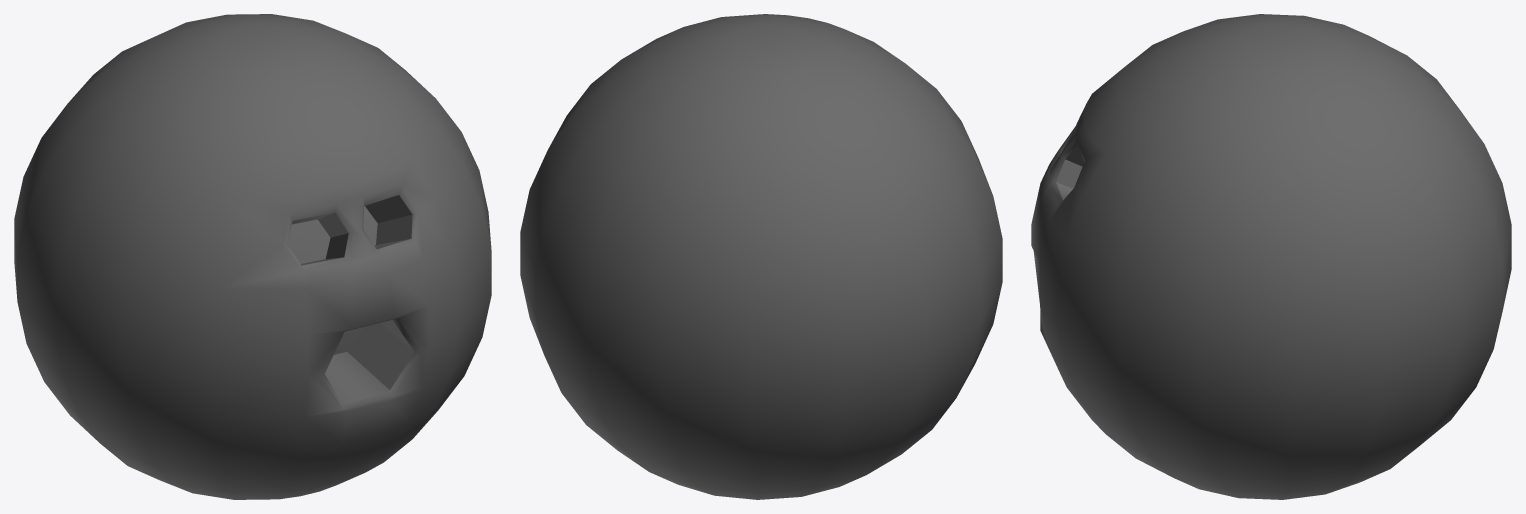
The model's file is BowlingBall.fbx.
3 renders of one model, left to right at view 1: azimuth 30°, elevation 25°; view 2: azimuth 150°, elevation 25°; view 3: azimuth 270°, elevation 25°, orthographic.
Visible parts, largest first — view 1: BowlingBall; view 2: BowlingBall; view 3: BowlingBall.
Part boxes in pixels (<box>): BowlingBall: <box>14,14,491,499</box>; BowlingBall: <box>520,14,1002,499</box>; BowlingBall: <box>1031,14,1511,499</box>.
Size of the model in its own units: 147 by 147 by 148.
